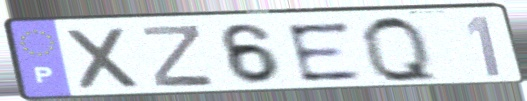1: (462, 14, 503, 79)
6: (215, 21, 286, 87)
E: (281, 19, 367, 84)
Q: (357, 13, 444, 85)
X: (62, 25, 147, 94)
Z: (138, 22, 218, 89)
